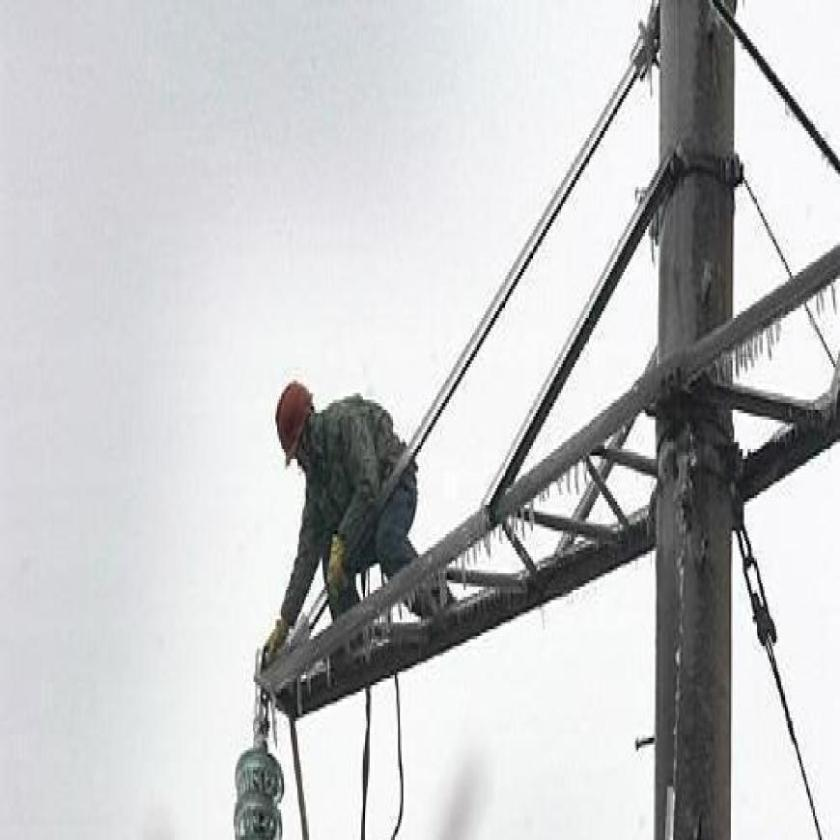Con_casco: (272, 380, 320, 472)
